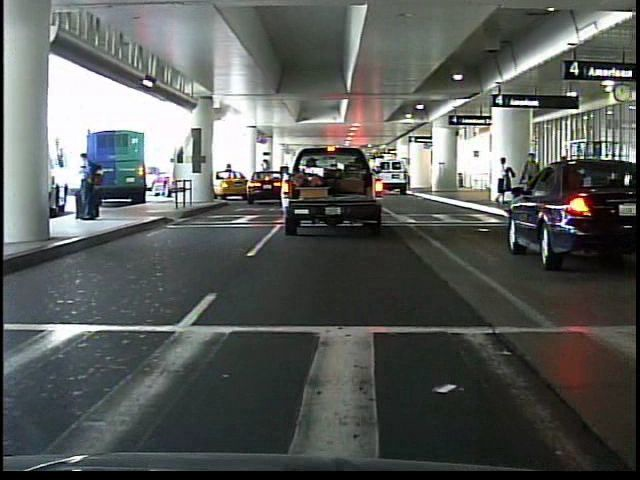person: (75, 149, 107, 231), (518, 148, 543, 209), (492, 155, 516, 208)
